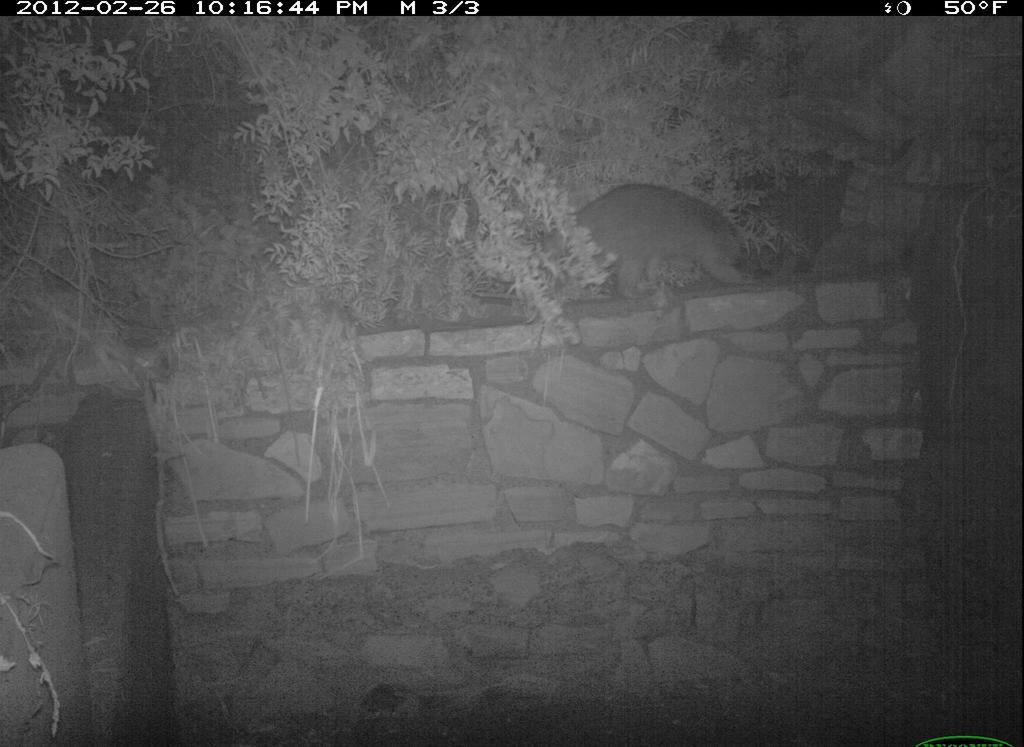raccoon: (520, 177, 770, 315)
